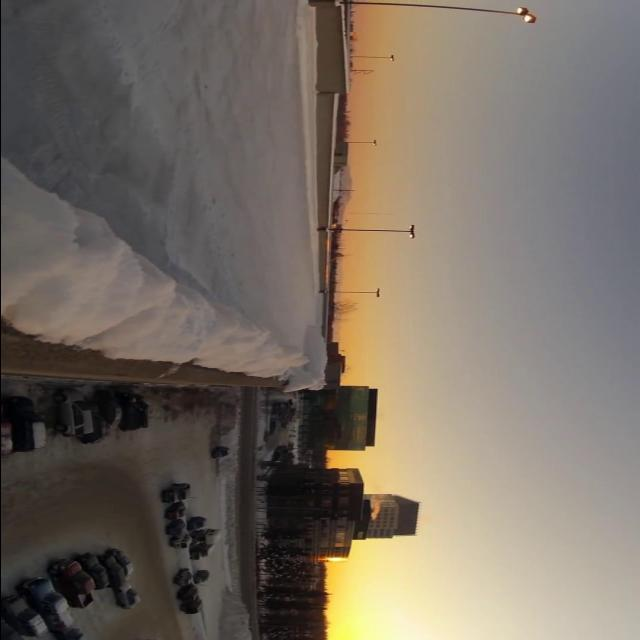Fire: (369, 494, 378, 522)
